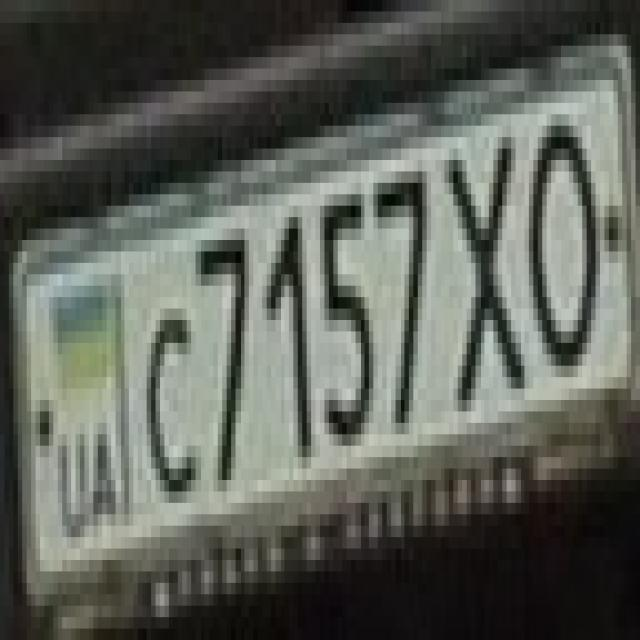0: (516, 91, 604, 366)
1: (244, 182, 316, 458)
5: (302, 160, 373, 423)
7: (182, 206, 254, 468), (364, 148, 432, 423)
C: (129, 286, 200, 480)
X: (431, 114, 525, 400)
